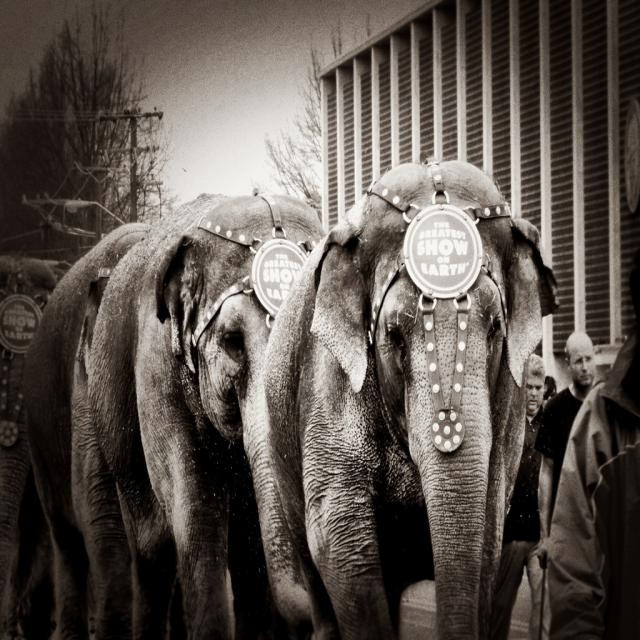elephant: (262, 157, 548, 639), (36, 200, 330, 640)
